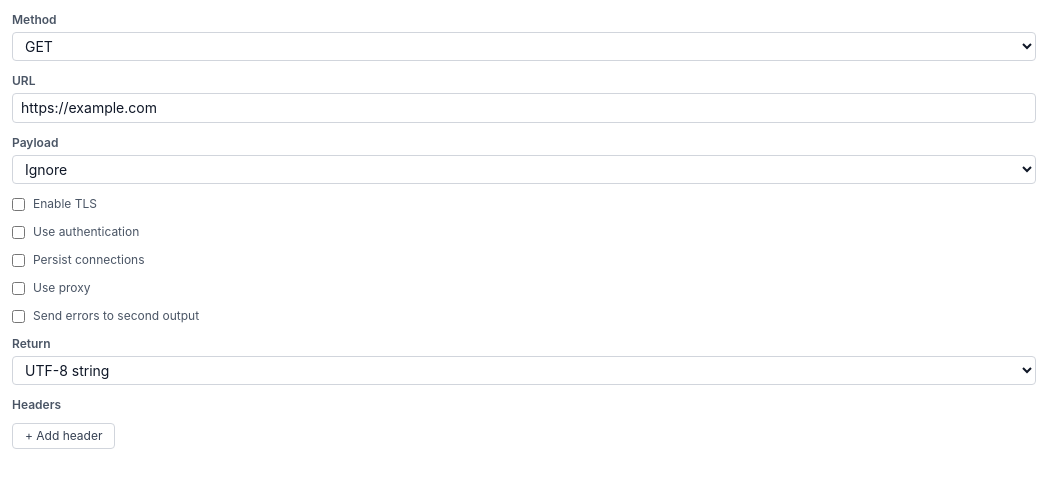
HttpRequestEditor › adds a header row
The image size is (1048, 492).
Click the button with test id "httprequest-add-header" at (64, 436), box [12,423,116,449]
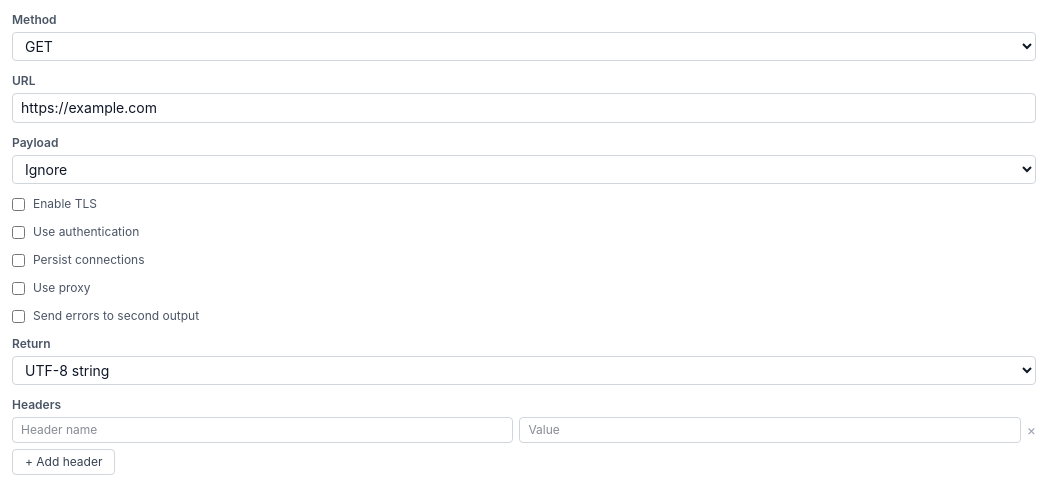
Check: the element with test id "httprequest-header-0" is shown, box [12,417,1036,443]
